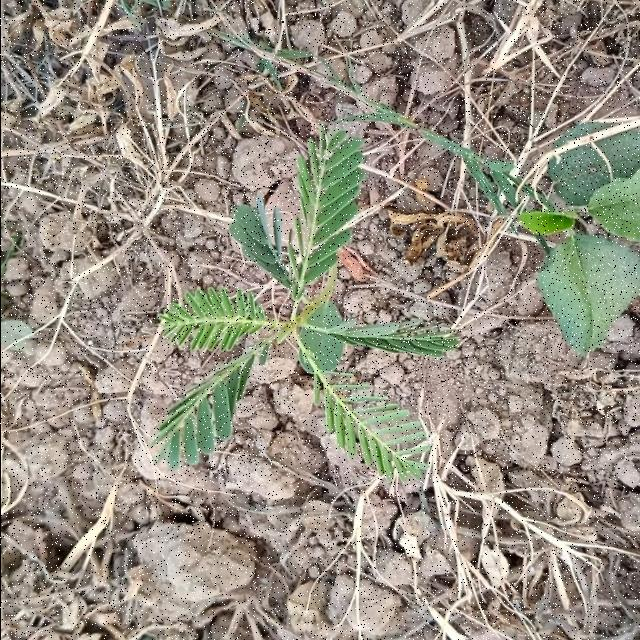plant: (153, 129, 457, 481)
